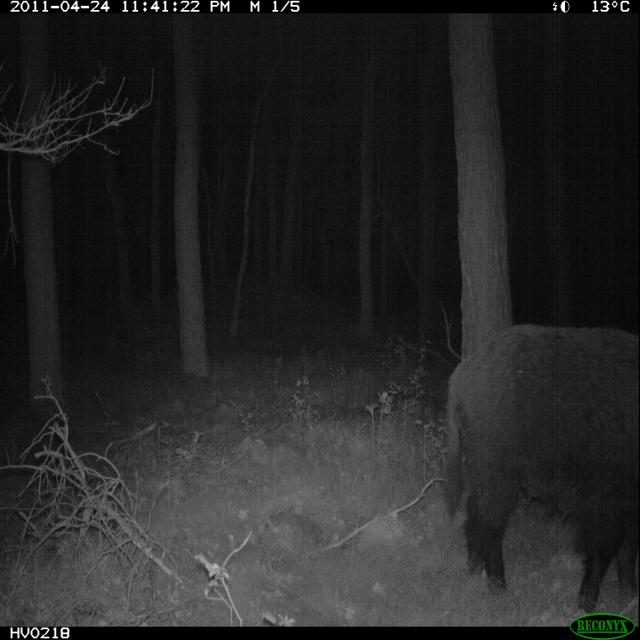boar: (424, 287, 640, 619)
